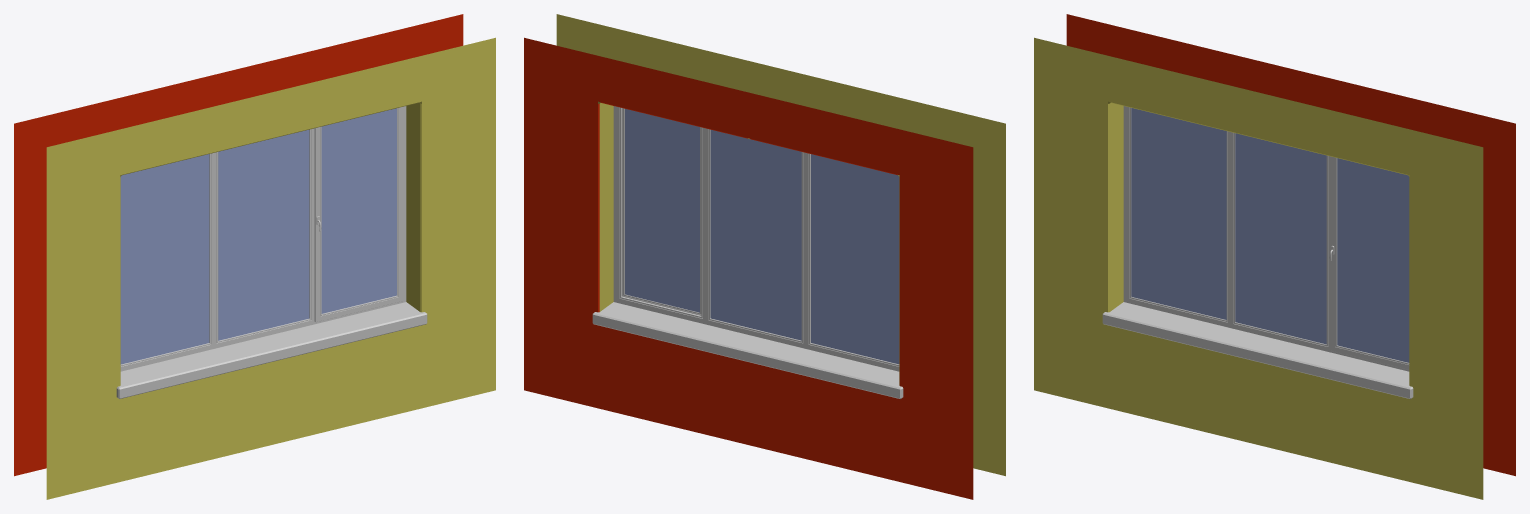
File: stairs_window.fbx
3 views of the same model, side by side, from view 1: azimuth 30°, elevation 25°; view 2: azimuth 150°, elevation 25°; view 3: azimuth 330°, elevation 25° (orthographic).
Parts seen in each view (by area): view 1: s_wall_window_b, s_window_b; view 2: s_wall_window_b, s_window_b; view 3: s_wall_window_b, s_window_b.
Boxes of the visible parts, box(x1,y1,x2,y2) form: s_wall_window_b: box(14, 14, 495, 499); s_window_b: box(116, 106, 427, 398); s_wall_window_b: box(524, 14, 1005, 499); s_window_b: box(592, 106, 903, 398); s_wall_window_b: box(1034, 14, 1515, 499); s_window_b: box(1102, 106, 1413, 398).
Size of the model in its own units: 4 by 3 by 0.5718.
